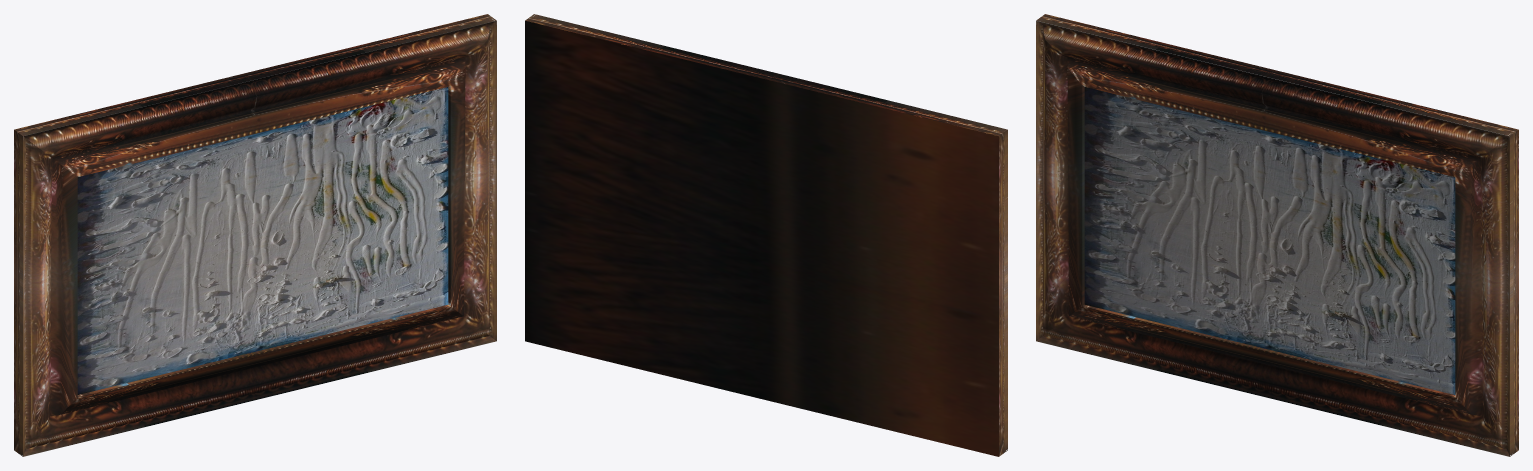
Rendered from digital_painting.fbx.
The picture shows the model from 3 angles, left to right: view 1: azimuth 30°, elevation 25°; view 2: azimuth 150°, elevation 25°; view 3: azimuth 330°, elevation 25°; orthographic projection.
Parts seen in each view (by area): view 1: polySurface2, polySurface1; view 2: polySurface1; view 3: polySurface2, polySurface1.
Boxes of the visible parts, x1,y1,x2,y2 form: polySurface2: (77, 87, 448, 394); polySurface1: (14, 14, 496, 456); polySurface1: (525, 14, 1007, 456); polySurface2: (1084, 87, 1455, 394); polySurface1: (1036, 14, 1518, 456).
Size of the model in its own units: 1.55 by 1 by 0.0739.
